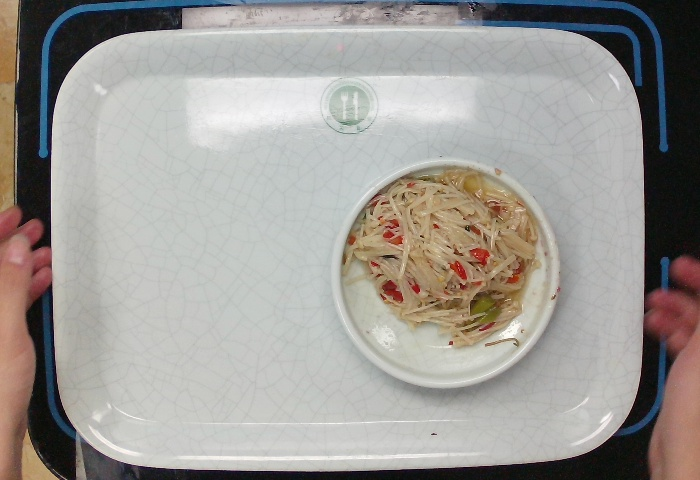JYsf-Xiao_Yuan_Pan: (327, 153, 563, 392)
